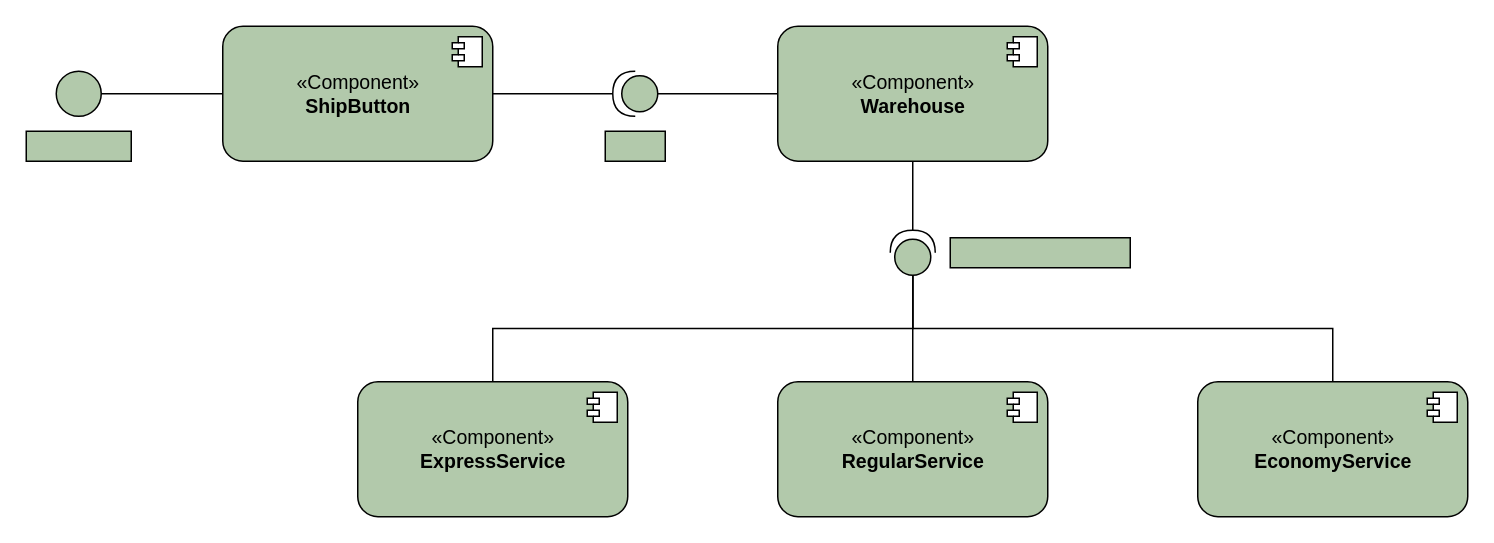
Image size: 1494x543. Some labels were removed from this diagram. Each missing label, with the box of its shape:
Ship: (604, 130, 665, 161)
Shipment: (25, 130, 131, 161)
ShipmentStrategy: (949, 236, 1130, 268)
